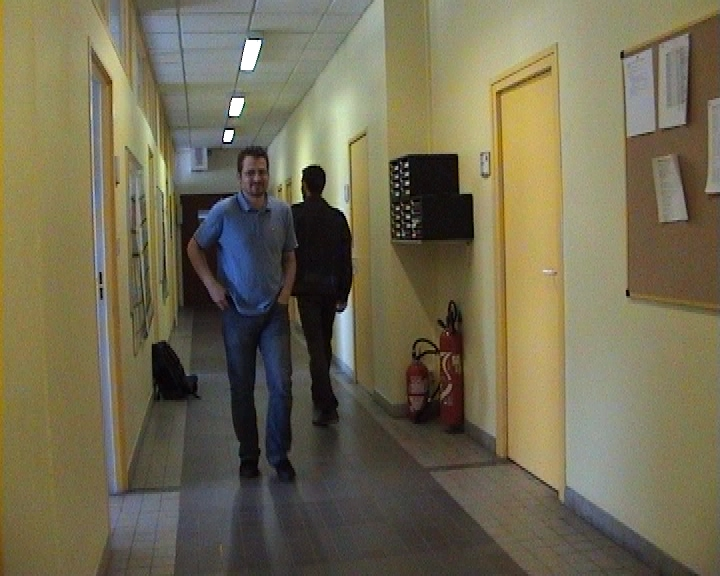leave bag unattended: (127, 319, 326, 452)
